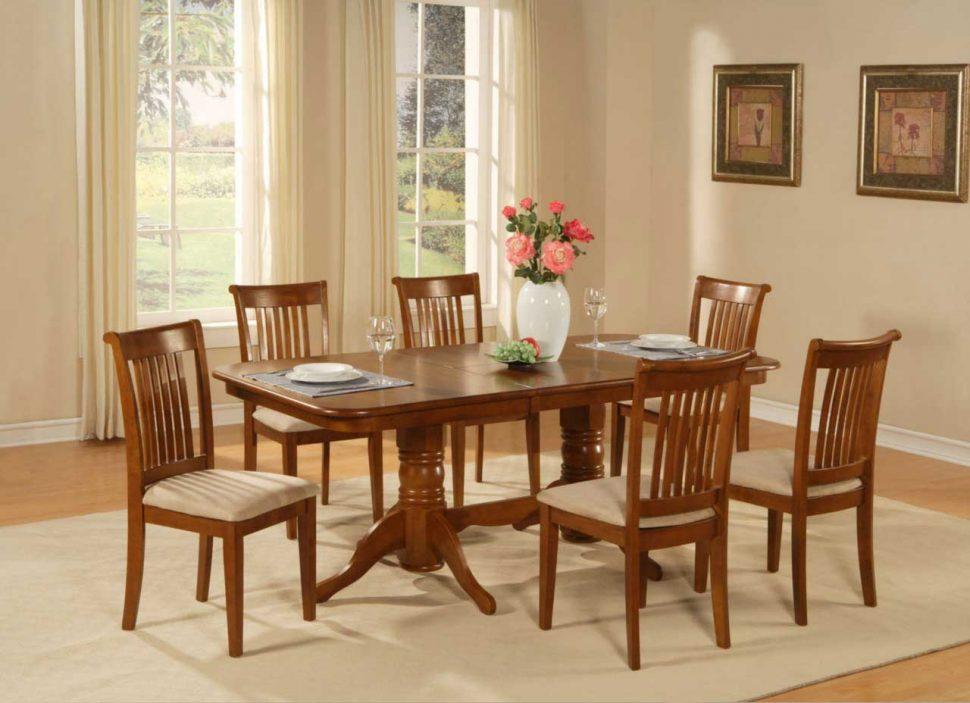Carving Chair: (92, 315, 334, 654), (535, 358, 739, 668), (739, 333, 920, 637)
Carving Table: (246, 335, 736, 606)
